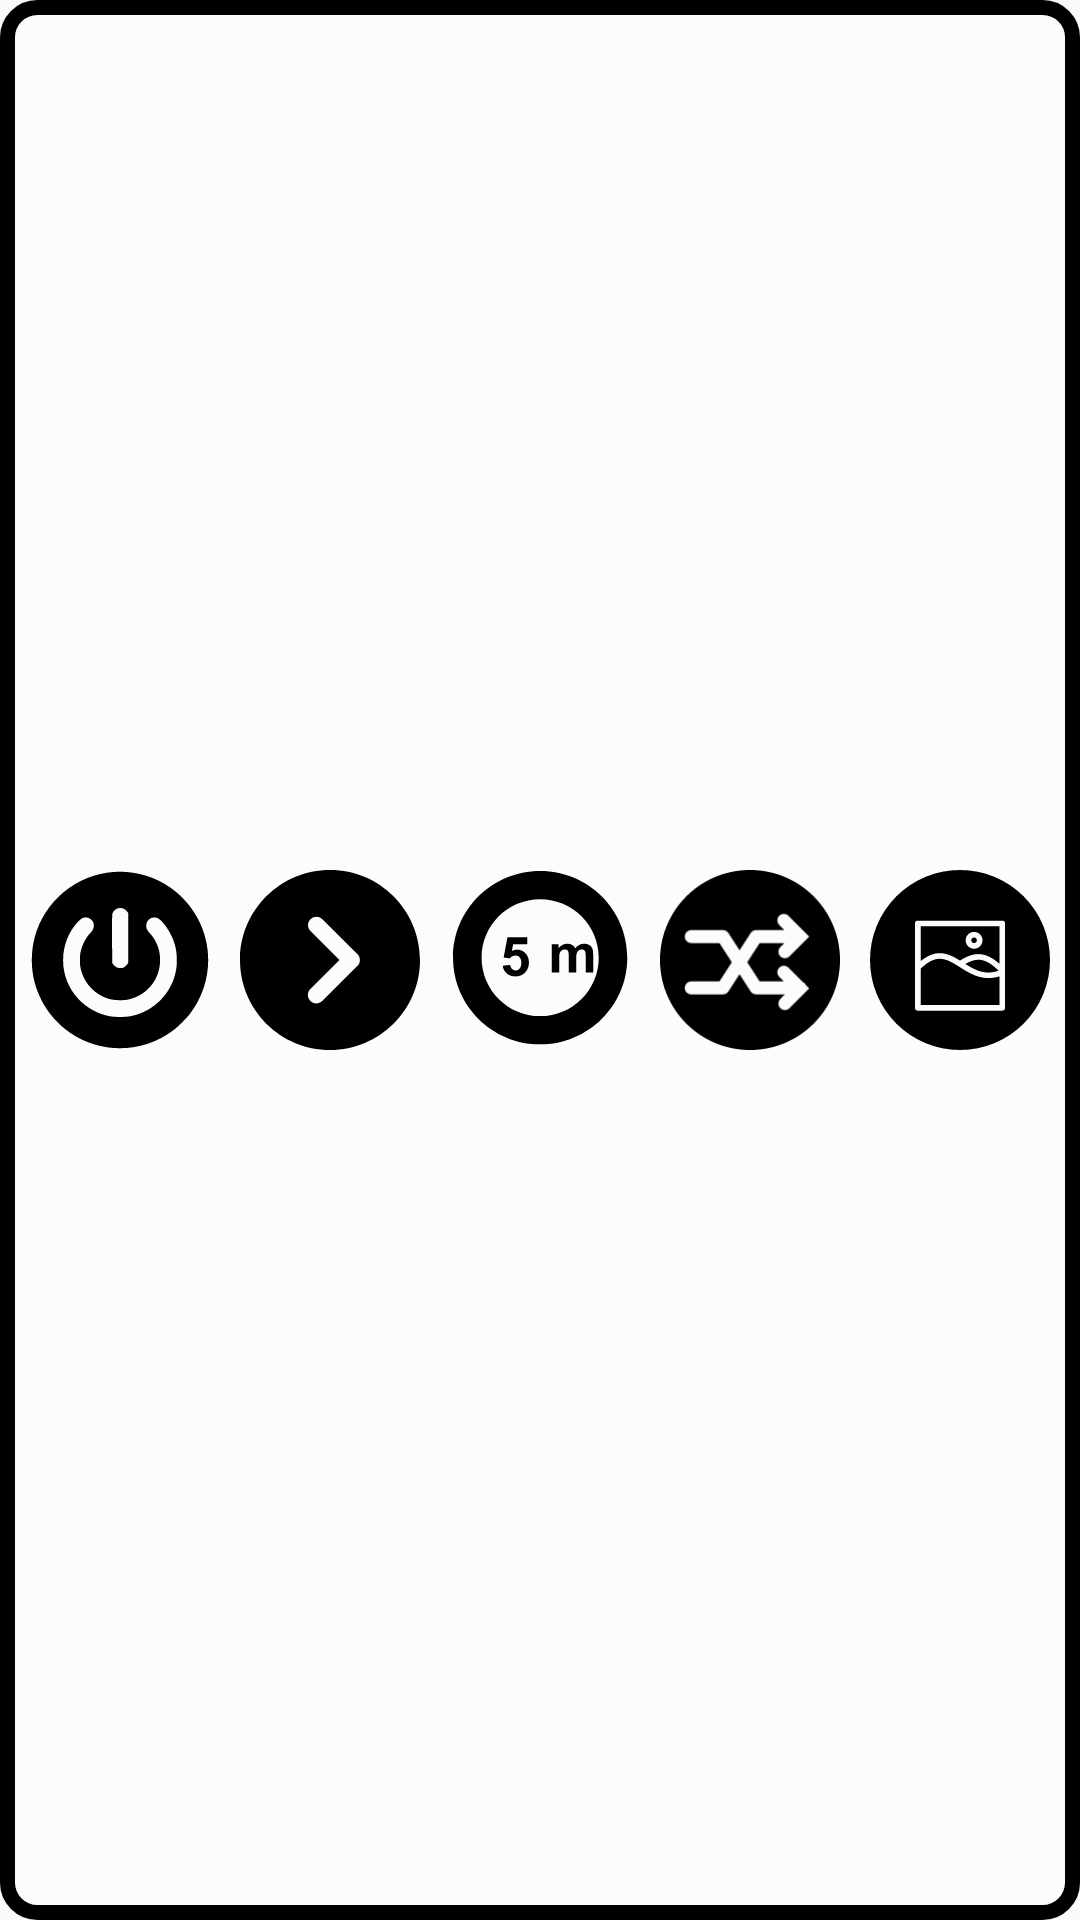

Locate icon controls on the screen. Image size 1080*1920, boxes as detection(x1, y1, x2, y2).
widget gallery: detection(870, 870, 1050, 1050)
widget next: detection(240, 870, 420, 1050)
widget power: detection(31, 871, 209, 1049)
widget shuffle: detection(660, 870, 840, 1050)
